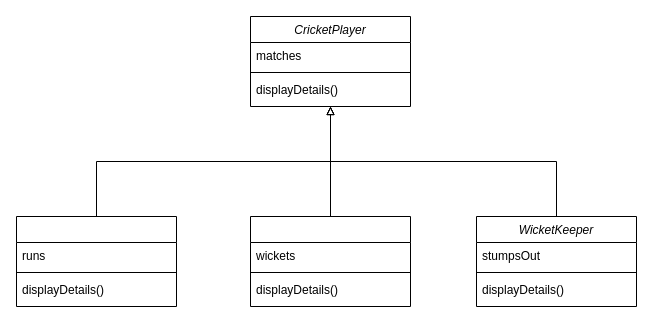
The diagram is 653 pixels wide and 323 high, and some of its shapes have lost their labels. Each missing label, with the box of its shape:
Batsman: (16, 216, 176, 306)
Bowler: (250, 216, 410, 306)
